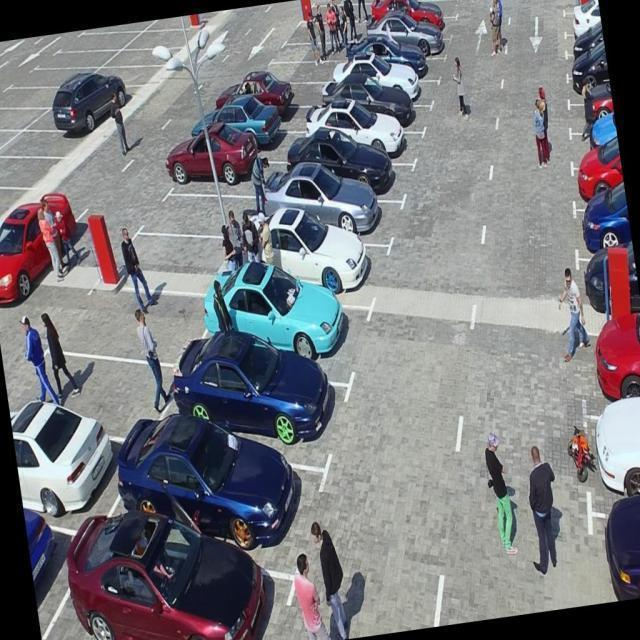space-empty: (41, 341, 168, 439), (74, 285, 205, 375), (128, 216, 226, 292), (163, 179, 251, 247), (13, 119, 86, 173), (0, 143, 61, 199), (281, 31, 357, 71), (0, 76, 68, 120), (276, 51, 342, 91), (260, 73, 321, 115), (49, 41, 118, 77), (115, 37, 180, 75), (301, 14, 369, 50), (381, 0, 463, 28), (65, 26, 130, 61), (19, 59, 87, 92), (135, 19, 196, 53), (100, 59, 160, 93), (0, 94, 38, 144), (312, 0, 379, 27), (148, 12, 214, 36), (92, 20, 157, 40), (323, 0, 390, 11)
space-occupied: (127, 396, 311, 571), (67, 492, 275, 640), (194, 329, 333, 480), (221, 257, 351, 392), (247, 199, 378, 311), (273, 148, 390, 256), (11, 403, 124, 506), (303, 127, 406, 217), (322, 100, 418, 176), (335, 56, 434, 122), (328, 81, 428, 145), (347, 33, 442, 94), (583, 502, 639, 603), (582, 411, 640, 506), (182, 137, 267, 199), (576, 251, 640, 325), (367, 15, 448, 69), (584, 340, 640, 415), (211, 113, 286, 168), (235, 93, 306, 145), (377, 0, 456, 45), (573, 200, 633, 258), (43, 96, 109, 144), (68, 79, 136, 118), (573, 161, 625, 200), (569, 99, 617, 135), (568, 72, 612, 103), (569, 127, 619, 154), (564, 51, 608, 81), (564, 29, 605, 60), (564, 9, 603, 35)
